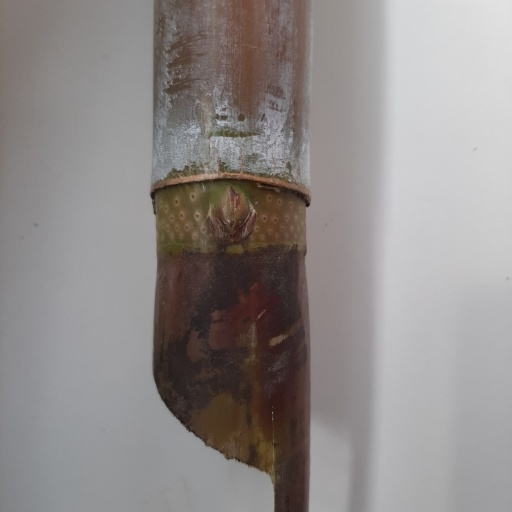Bud: (212, 183, 251, 236)
